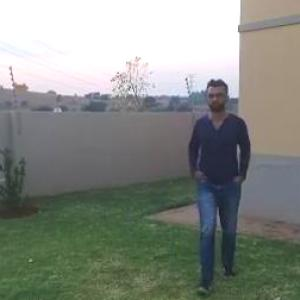follow: (187, 77, 252, 270)
